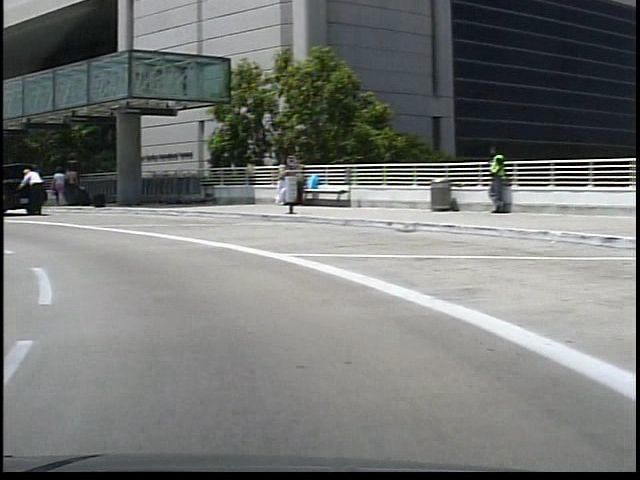person: (476, 147, 503, 222), (16, 165, 44, 218), (60, 166, 75, 212), (48, 169, 63, 210)
